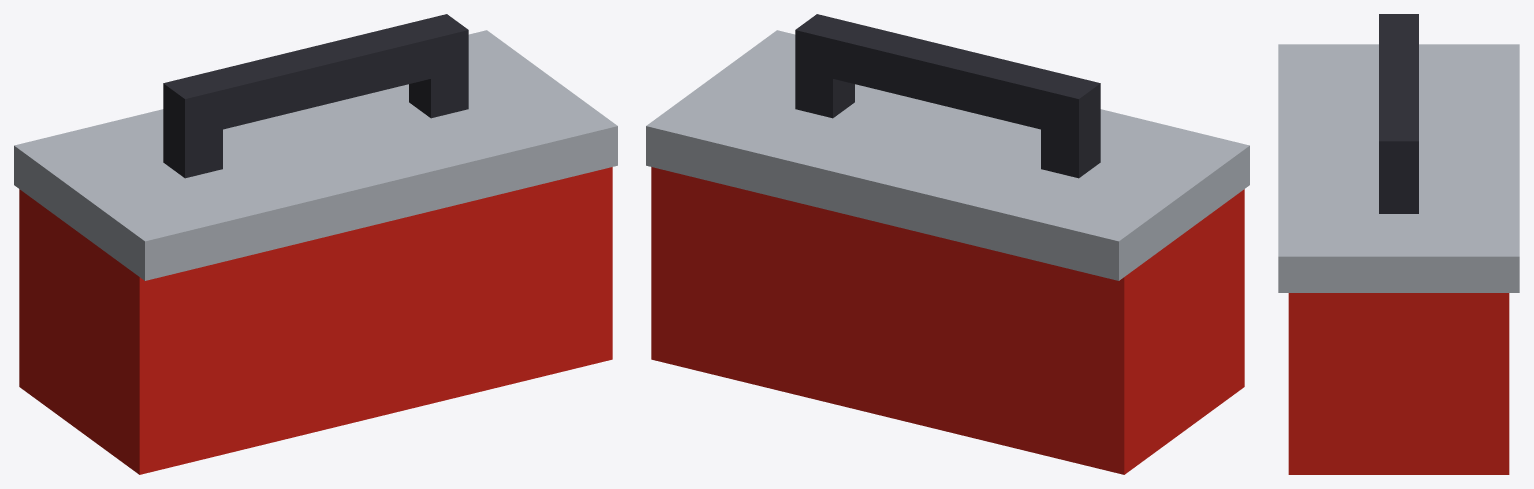
File: garage_toolbox.glb
The picture shows the model from 3 angles, left to right: view 1: azimuth 30°, elevation 25°; view 2: azimuth 150°, elevation 25°; view 3: azimuth 270°, elevation 25°; orthographic projection. The views are drawn at different scales.
Visible parts, largest first — view 1: toolbox; view 2: toolbox; view 3: toolbox.
Boxes of the visible parts, <box> form: toolbox: <box>14,14,617,474</box>; toolbox: <box>646,14,1249,474</box>; toolbox: <box>1278,14,1519,474</box>.
Bounding box in the file's own units: 0.5 × 0.32 × 0.24.
